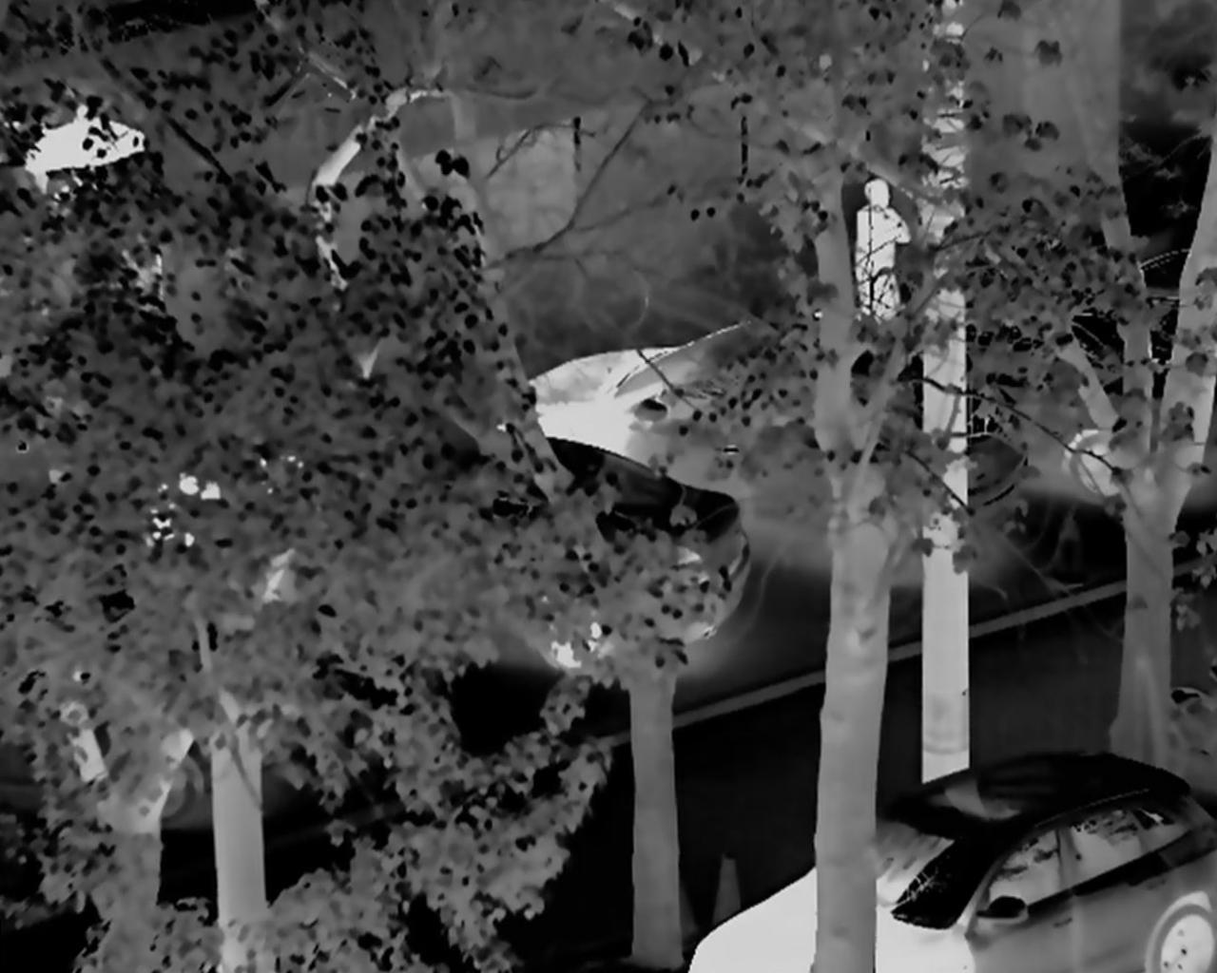person: (849, 165, 913, 327)
